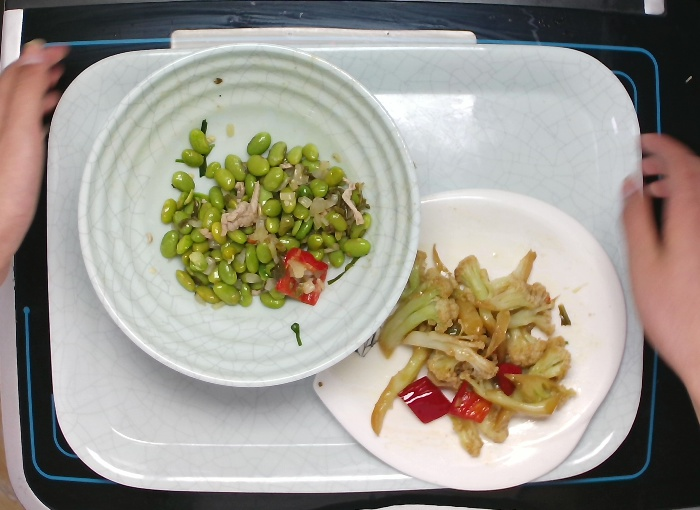JYsf-Da_Tang_Wan: (76, 35, 422, 395)
JYsf-Mian_Pan: (308, 179, 632, 495)
